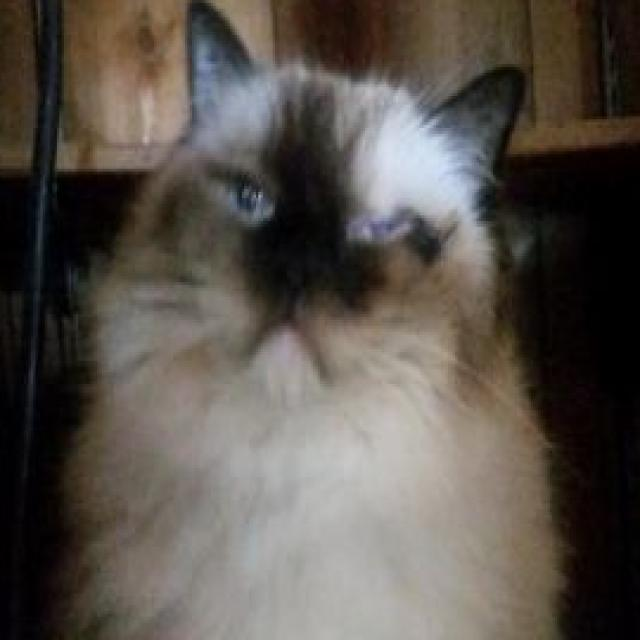Birman: (54, 0, 578, 640)
